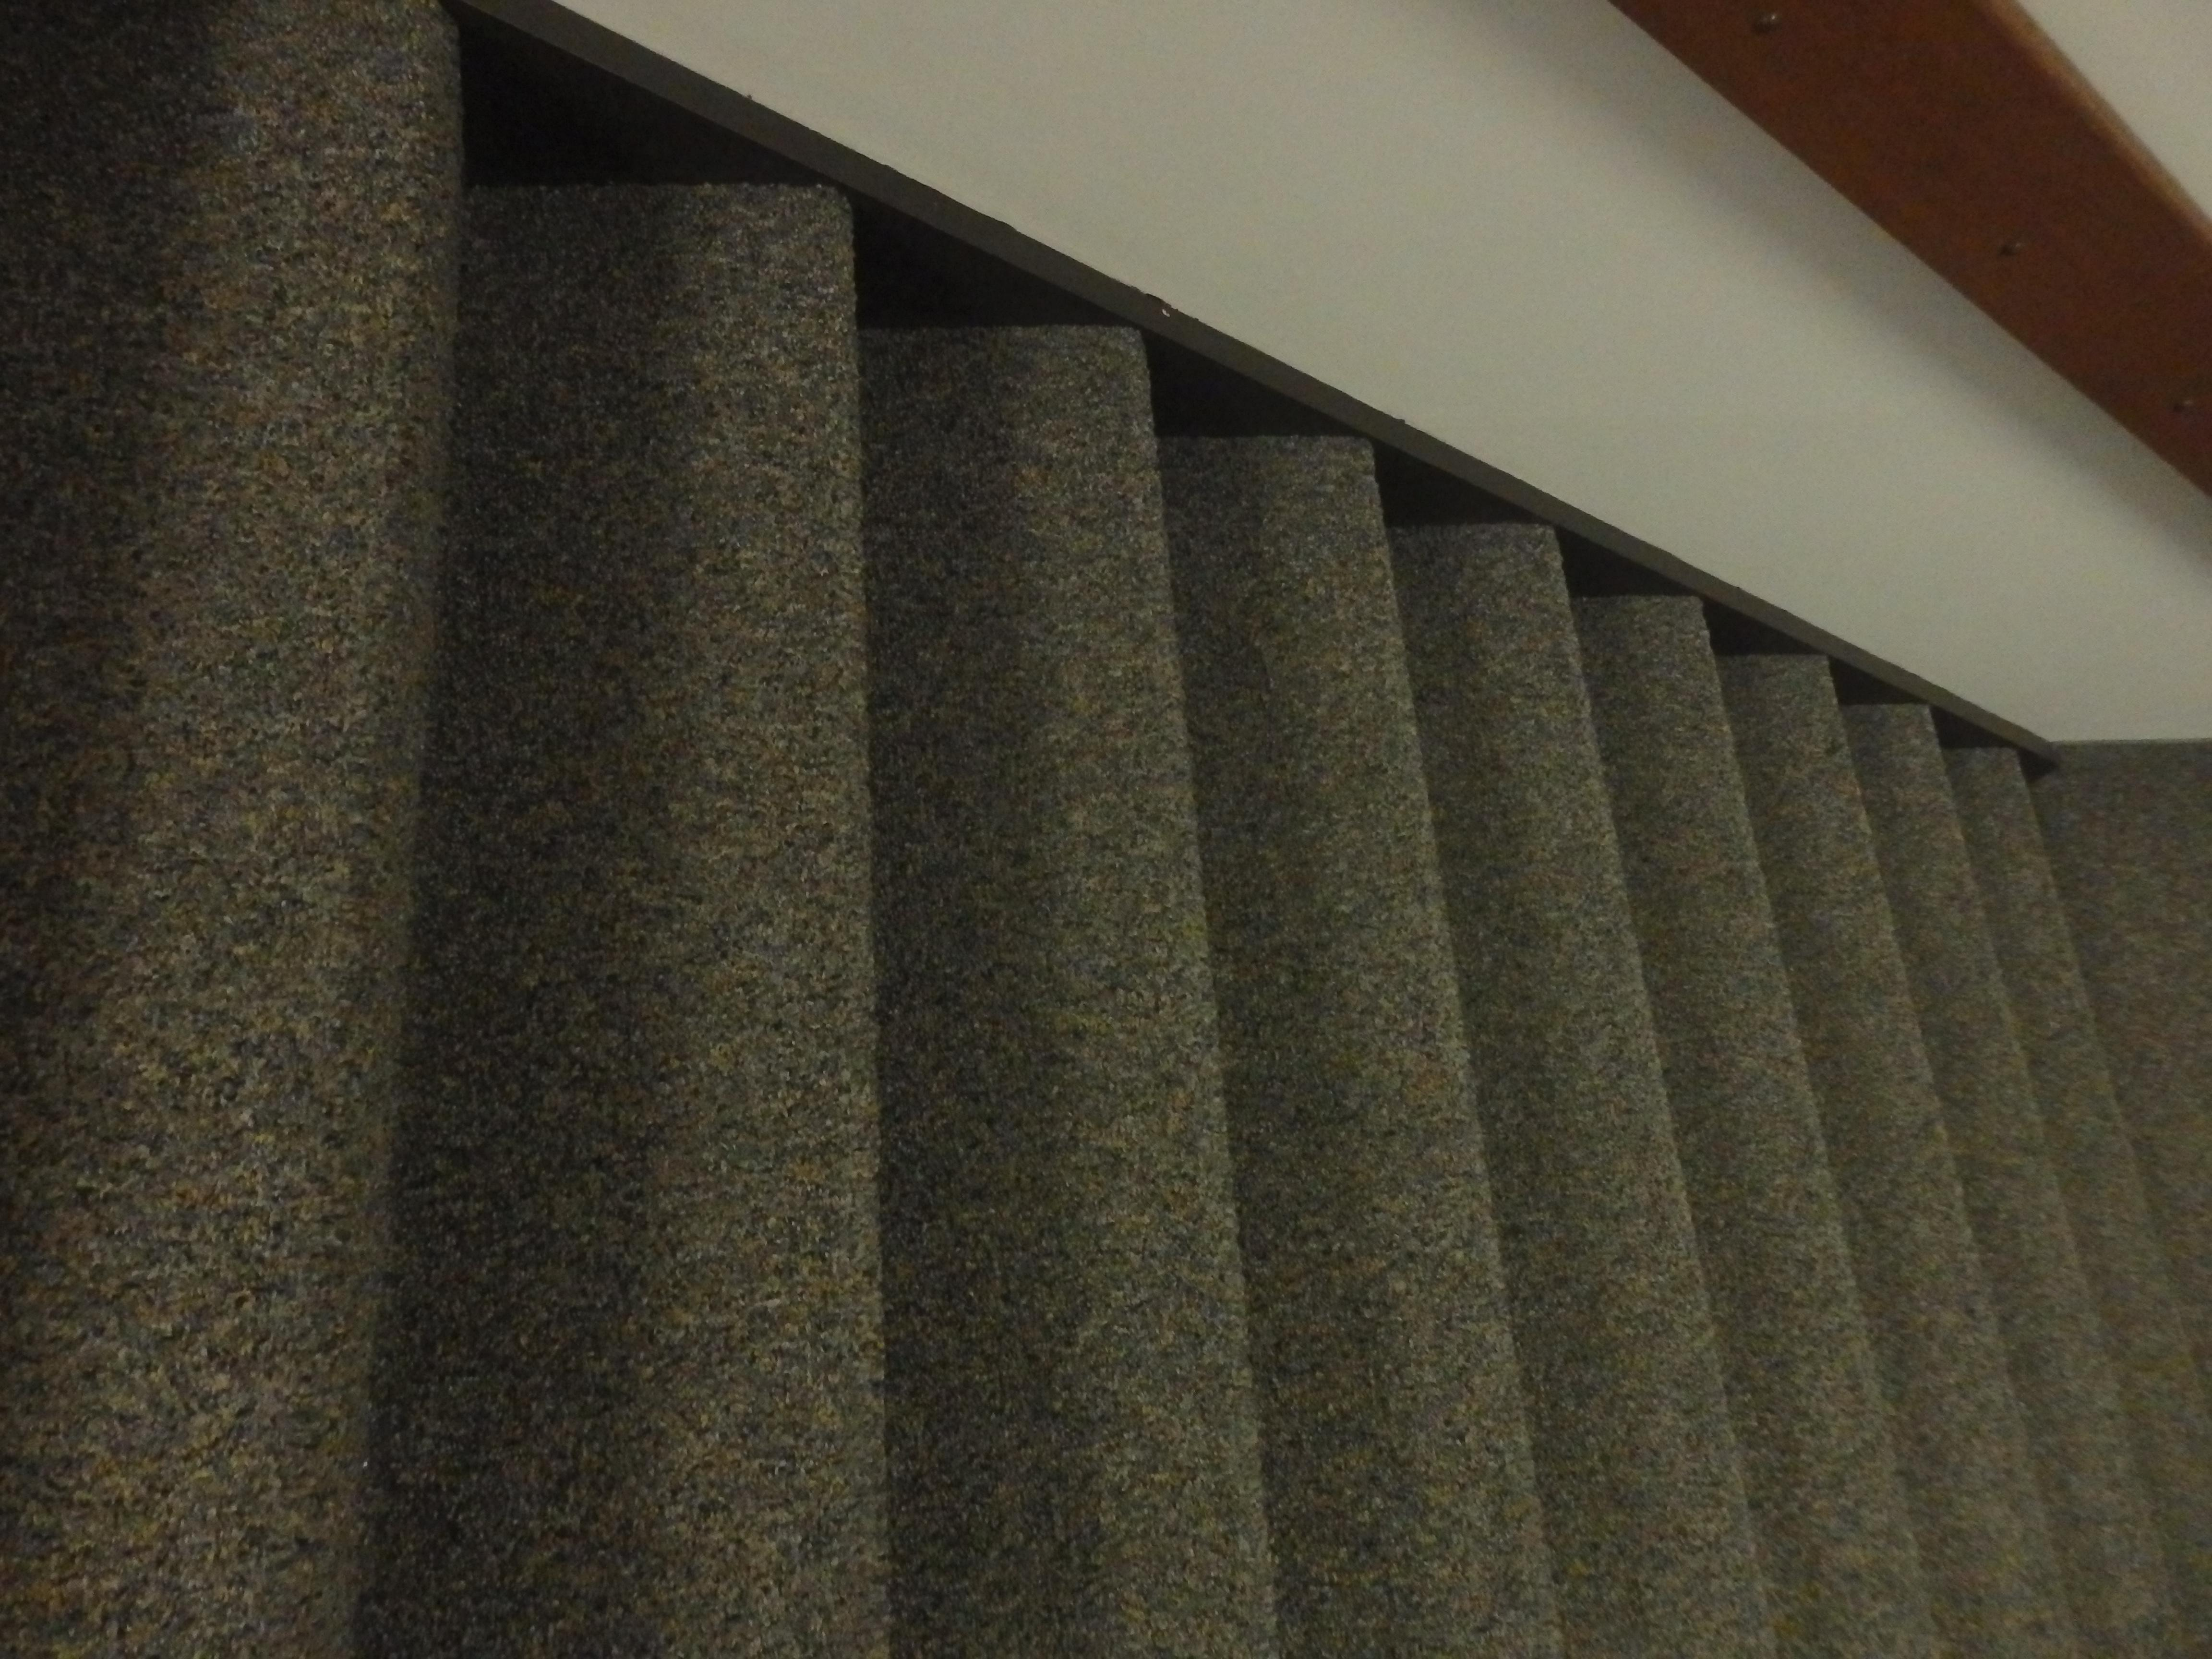stairs_down: (16, 404, 2141, 1659)
